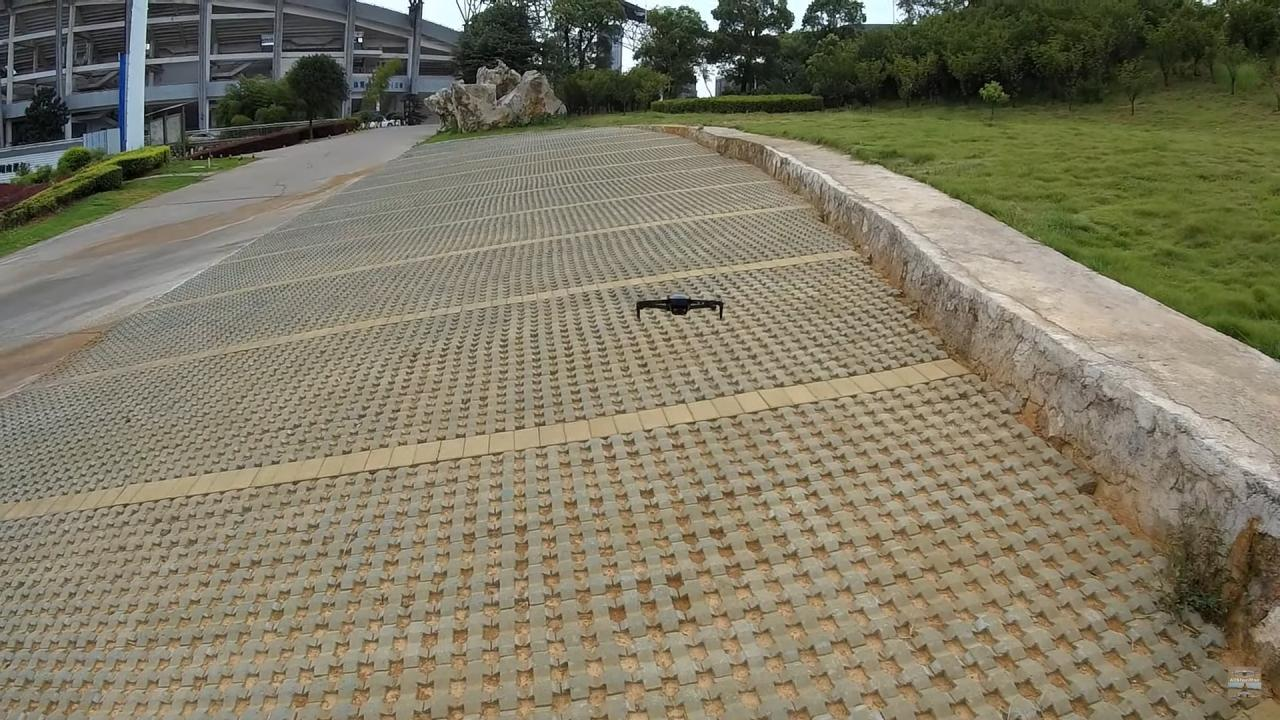Drone: (622, 284, 738, 330)
